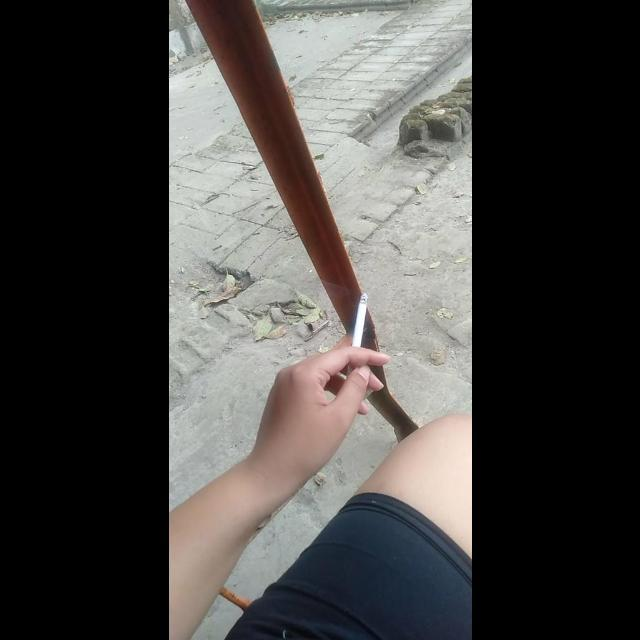rokok: (350, 287, 380, 359)
